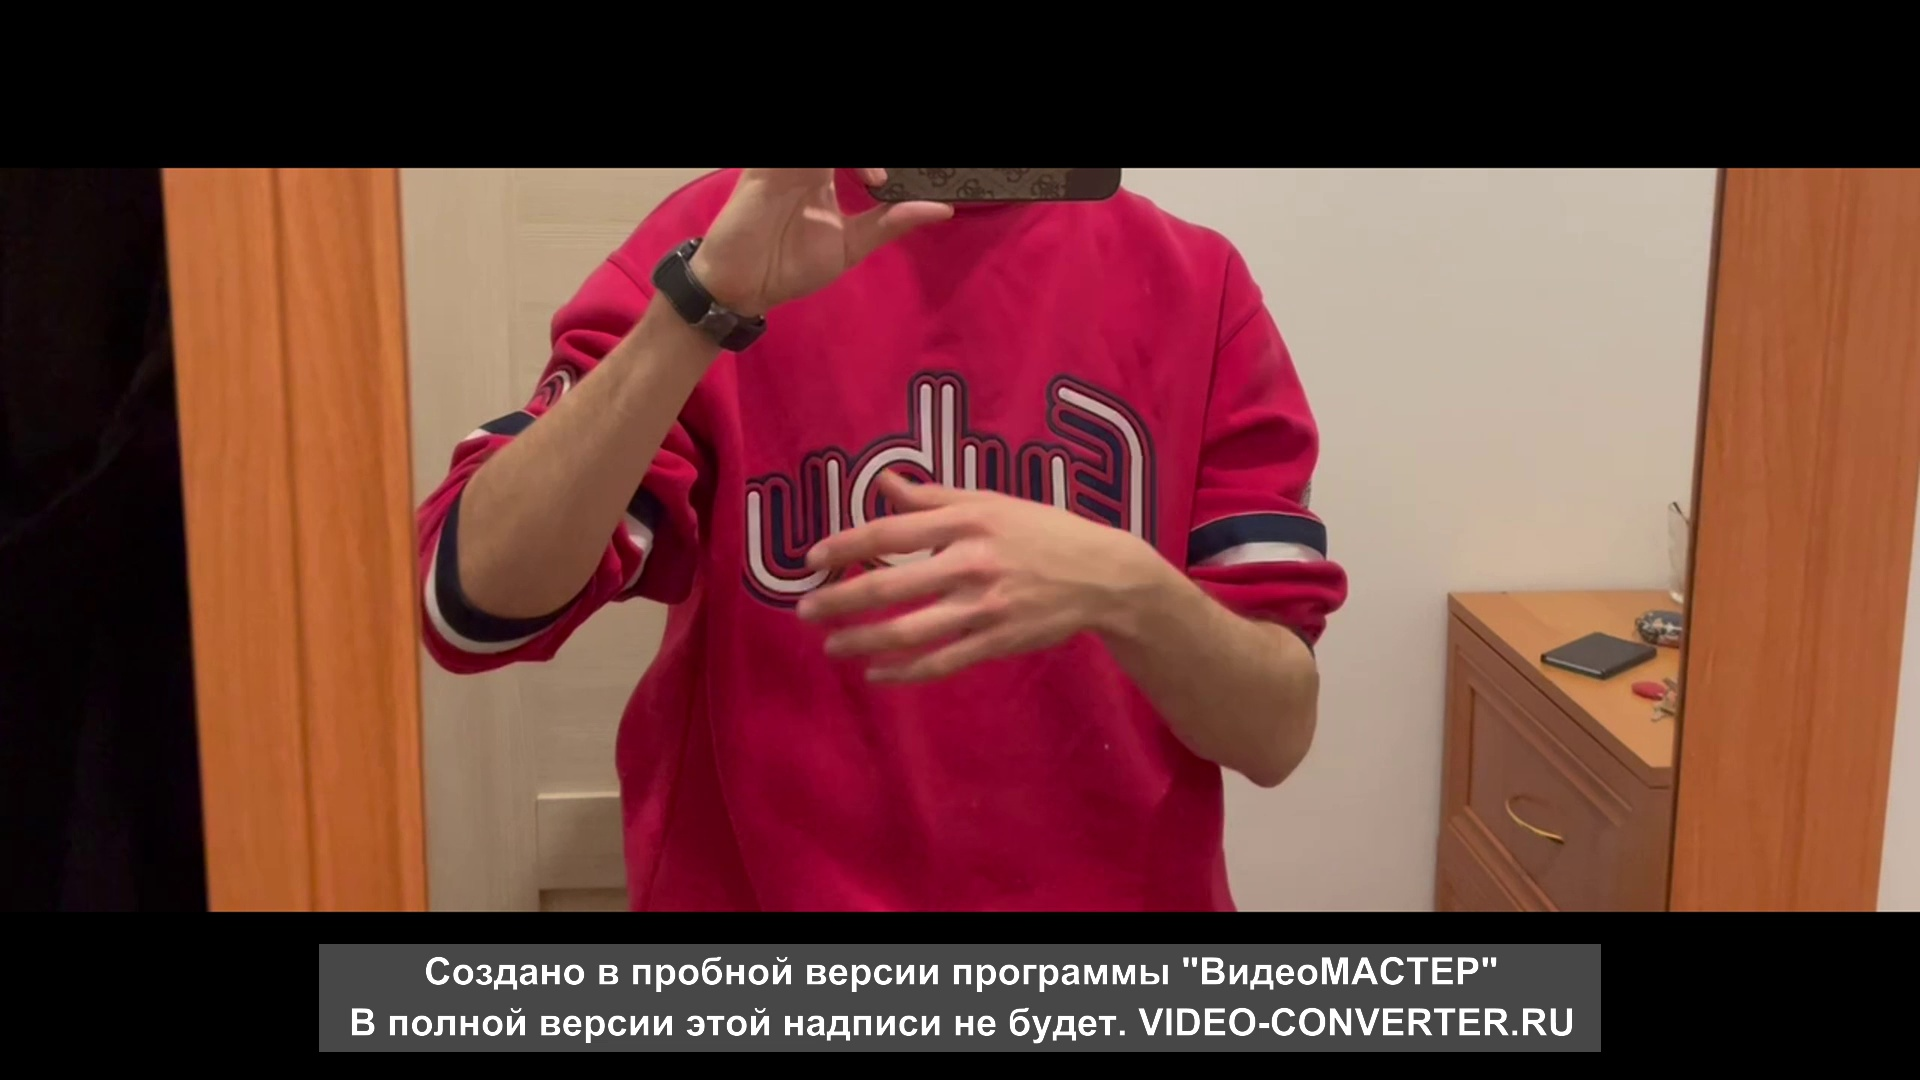Кисть: (795, 469, 1135, 687)
